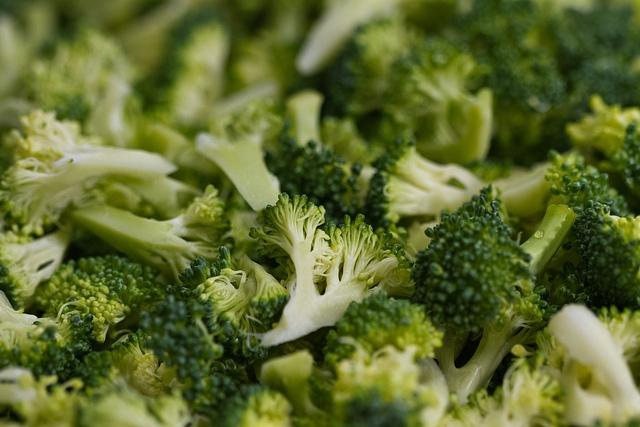broccoli: (248, 192, 416, 347), (409, 185, 578, 334), (0, 108, 180, 240), (62, 184, 236, 286), (10, 24, 146, 150), (132, 60, 237, 205), (539, 5, 640, 146), (365, 142, 500, 229), (37, 257, 170, 345), (219, 2, 324, 100), (1, 290, 96, 392), (342, 14, 432, 116), (439, 358, 572, 426), (383, 36, 484, 123), (162, 3, 247, 104), (296, 1, 408, 74), (280, 139, 375, 224), (572, 199, 640, 311), (0, 215, 77, 311), (140, 296, 223, 383), (322, 289, 415, 366), (118, 2, 215, 73), (260, 349, 344, 427), (544, 149, 634, 216), (0, 2, 60, 94), (0, 367, 90, 426), (190, 371, 238, 427), (286, 89, 326, 153), (610, 124, 640, 197), (541, 1, 596, 23), (74, 233, 116, 256), (356, 110, 384, 142), (109, 328, 133, 350)
